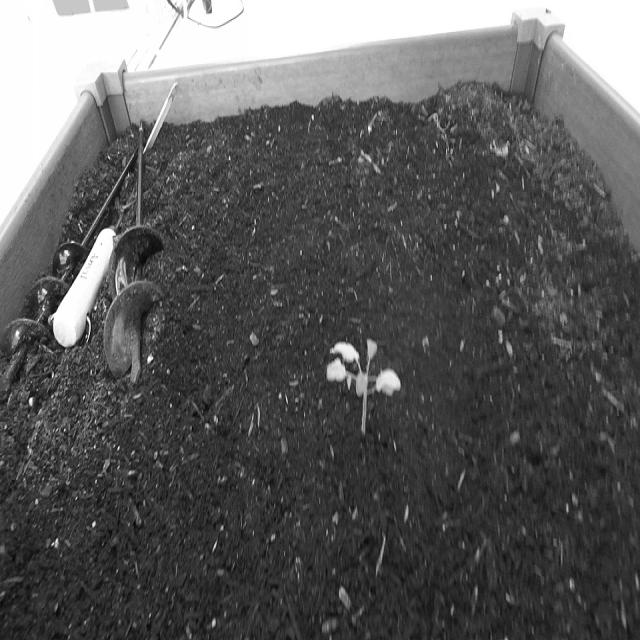Healthy: (323, 333, 402, 442)
